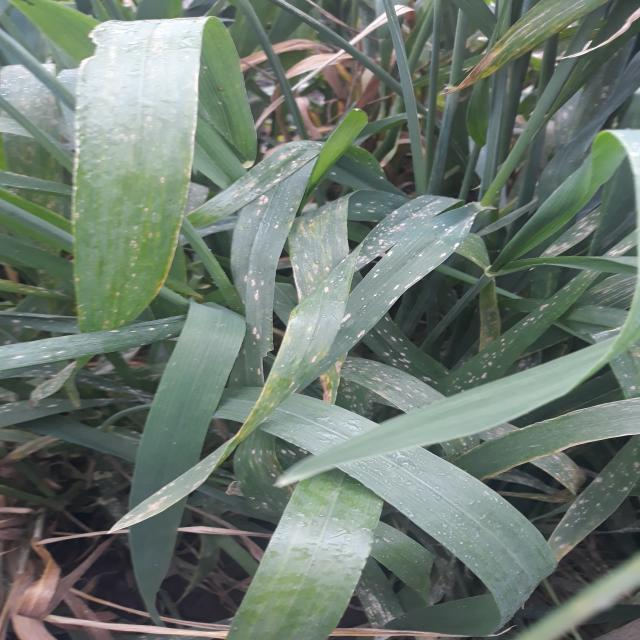powder_mildew: (52, 6, 254, 318), (229, 138, 482, 384), (96, 350, 353, 526), (492, 428, 640, 582), (330, 327, 490, 461), (448, 0, 631, 97), (465, 268, 598, 388), (0, 312, 186, 378), (354, 518, 454, 638), (586, 233, 639, 403), (0, 376, 142, 439), (554, 103, 640, 203), (533, 206, 640, 282), (0, 429, 72, 471), (88, 454, 127, 516)
